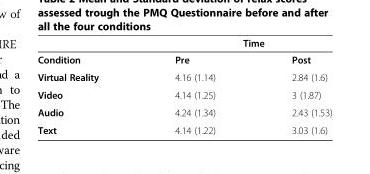table: (36, 36, 331, 135)
table column: (136, 36, 252, 135), (36, 36, 136, 135), (252, 36, 331, 135)
table column header: (36, 36, 331, 68)
table row: (36, 50, 331, 68), (36, 85, 331, 103), (36, 68, 331, 85), (36, 103, 331, 120), (36, 120, 331, 135), (36, 36, 331, 50)
table spanning cell: (36, 36, 136, 68), (136, 36, 331, 50)
